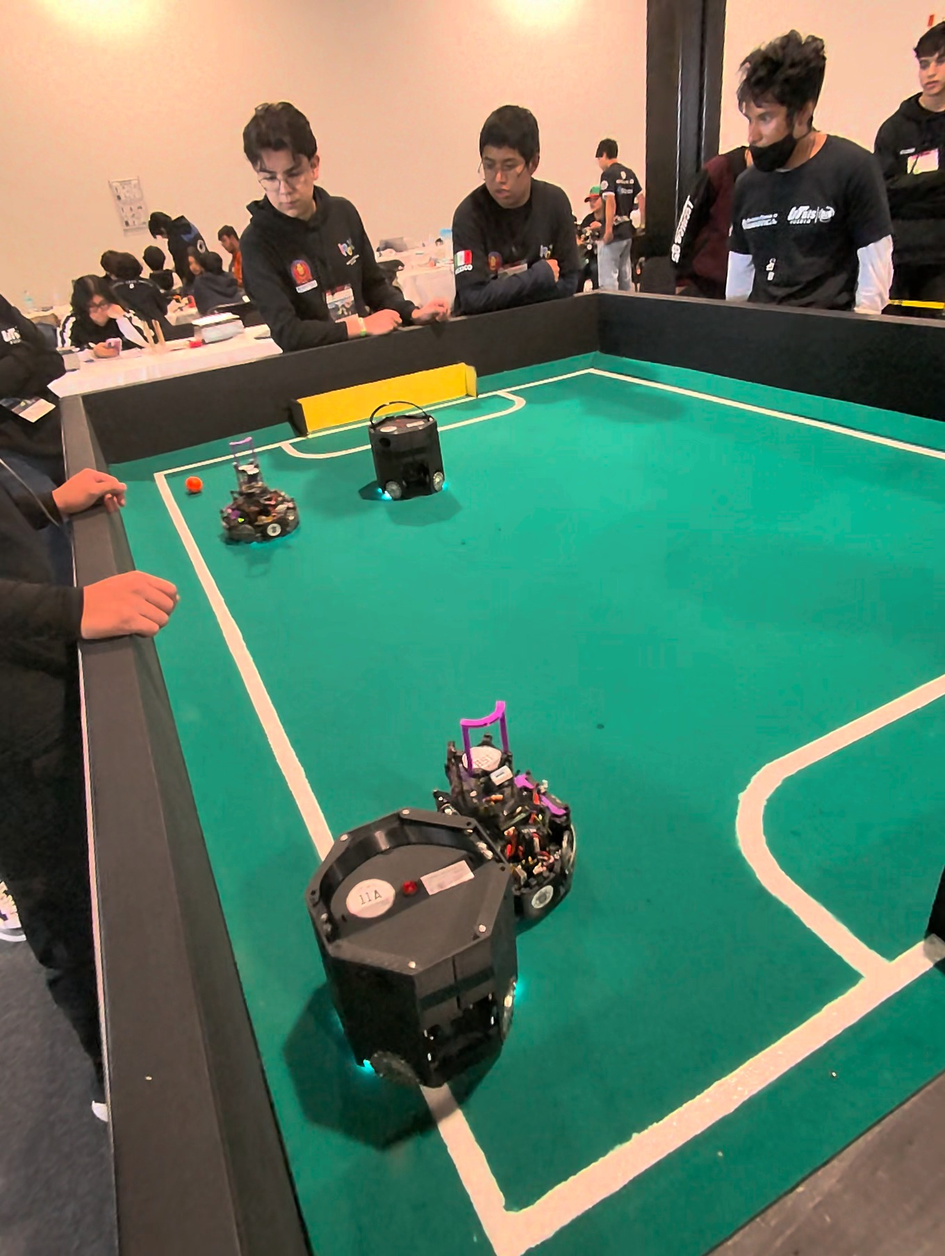Robot: (278, 825, 531, 1093), (503, 741, 581, 935), (364, 373, 456, 526), (221, 448, 304, 549)
pelota: (187, 476, 207, 495)
